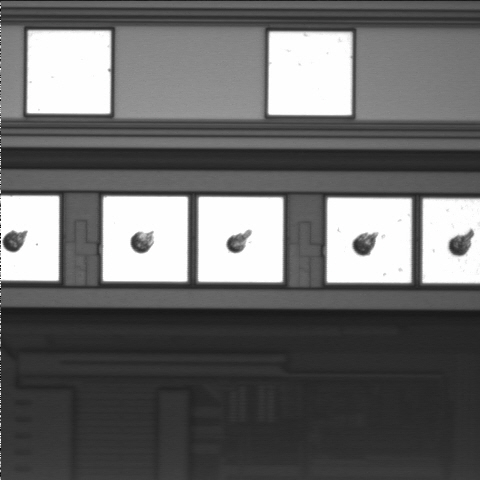pad: (103, 196, 188, 282), (198, 197, 283, 282), (327, 198, 411, 283), (27, 31, 111, 114), (268, 32, 352, 115)
